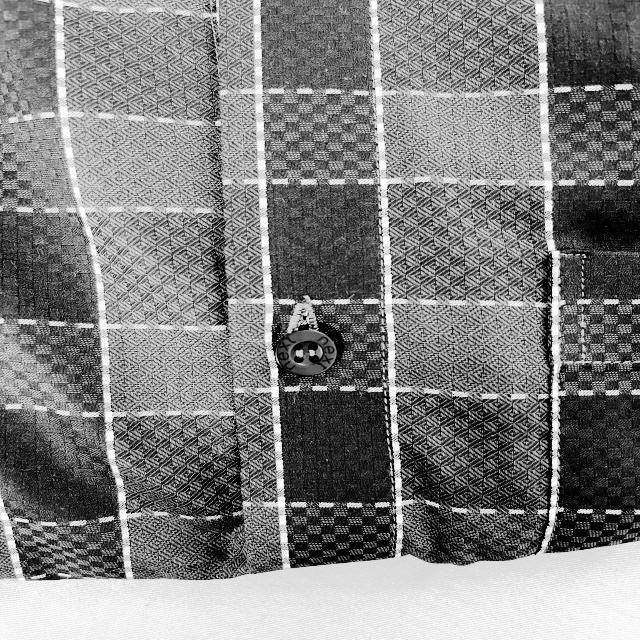Button_hike: (275, 292, 345, 382)
